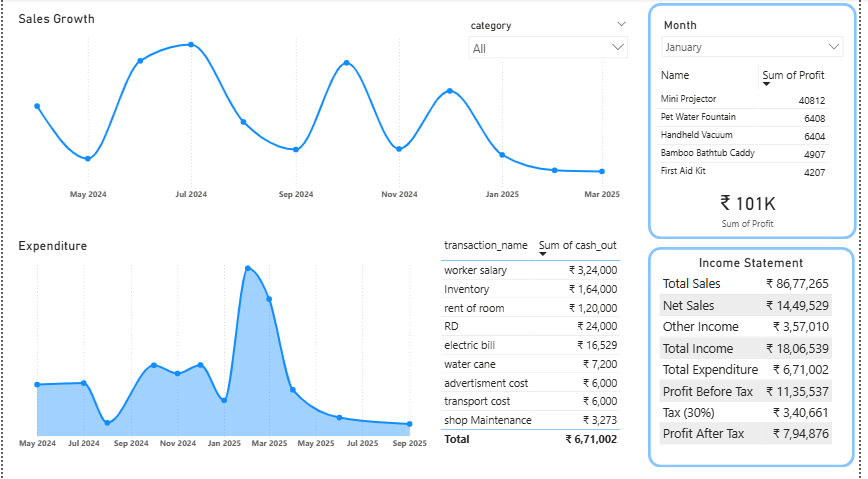

Layout of this report page (visuals, bound fields, positions):
{"tool":"powerbi","page":{"name":"Page 1","canvas":[1280,720],"ordinal":0},"visuals":[{"type":"shape","box":[962.9,371.7,308.8,329.3],"z":500},{"type":"pivotTable","fields":{"Values":["order.Total Sales","order.Net Sales","transaction.Other Income","order.Total Income","transaction.Total Expenditure","order.Profit Before Tax","order.Tax","order.Profit After Tax"]},"box":[976.1,377.6,286.8,324.9],"z":750},{"type":"shape","box":[962.9,7.3,311.7,352.7],"z":1000},{"type":"lineChart","title":"Sales Growth","fields":{"Y":["Sum(order.Pay)"],"Category":["order.date.Variation.Date Hierarchy.Year","order.date.Variation.Date Hierarchy.Month"]},"box":[29.3,20.5,908.8,291.2],"z":2000},{"type":"areaChart","title":"Expenditure","fields":{"Category":["transaction.date.Variation.Date Hierarchy.Year"],"Y":["transaction.Total Expenditure"]},"box":[17.6,358.5,620.5,324.9],"z":4000},{"type":"slicer","fields":{"Values":["product.category"]},"box":[679,29.3,257.6,65.9],"z":5000},{"type":"slicer","fields":{"Values":["order.date.Variation.Date Hierarchy.Month"]},"box":[974.6,23.4,291.2,68.8],"z":6000},{"type":"pivotTable","fields":{"Rows":["product.name"],"Values":["Sum(order.Profit)"]},"box":[973.2,95.1,291.2,188.8],"z":7000},{"type":"card","fields":{"Values":["Sum(order.Profit)"]},"box":[973.2,281,279.5,68.8],"z":8000},{"type":"textbox","box":[979.8,380.1,275.1,35.1],"z":9000},{"type":"tableEx","fields":{"Values":["transaction.transaction_name","Sum(transaction.cash_out)"]},"box":[648.3,349.8,295.6,342.4],"z":10000}]}

Visuals, with their boxes in screenshot pixels (x1, y1, x2, y2), scaled from the page's 1280x720 canvas onto the 868x479 screenshot:
shape: [left=653, top=247, right=862, bottom=466]
pivotTable - order.Total Sales x order.Net Sales: [left=662, top=251, right=856, bottom=467]
shape: [left=653, top=5, right=864, bottom=240]
"Sales Growth" lineChart: [left=20, top=14, right=636, bottom=207]
"Expenditure" areaChart: [left=12, top=239, right=433, bottom=455]
slicer - product.category: [left=460, top=19, right=635, bottom=63]
slicer - order.date.Variation.Date Hierarchy.Month: [left=661, top=16, right=858, bottom=61]
pivotTable - product.name x Sum(order.Profit): [left=660, top=63, right=857, bottom=189]
card - Sum(order.Profit): [left=660, top=187, right=849, bottom=233]
textbox: [left=664, top=253, right=851, bottom=276]
tableEx - transaction.transaction_name x Sum(transaction.cash_out): [left=440, top=233, right=640, bottom=461]
